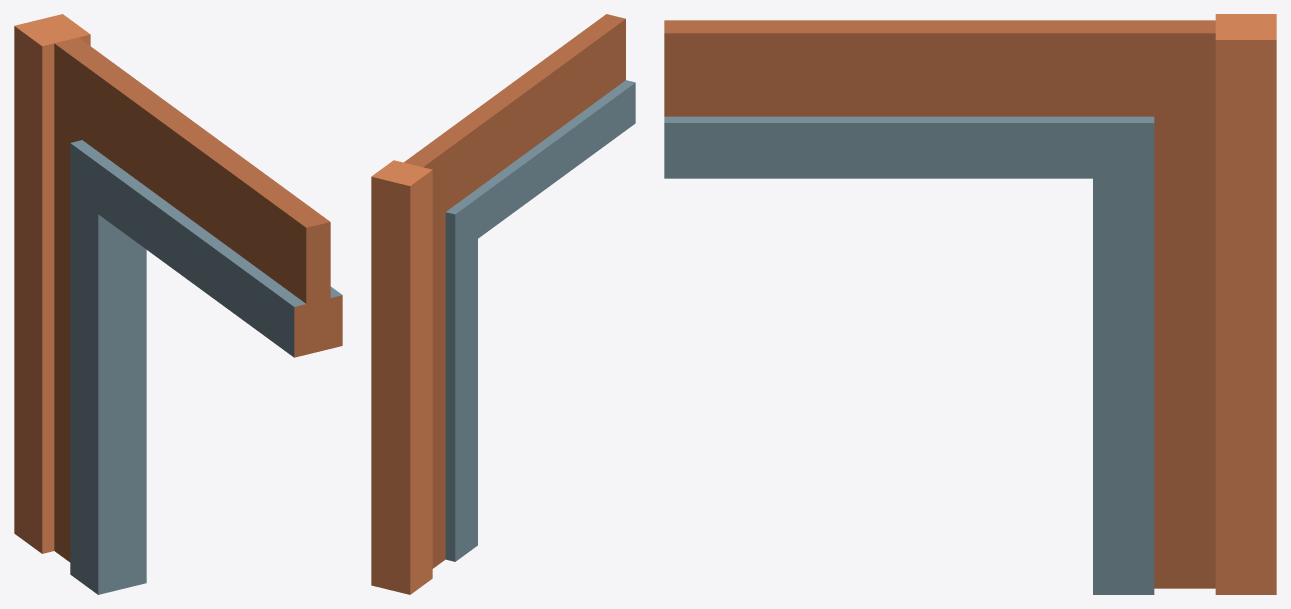
The model's file is wallWoodDoorwaySquareWide.fbx.
The picture shows the model from 3 angles, left to right: view 1: azimuth 30°, elevation 25°; view 2: azimuth 150°, elevation 25°; view 3: azimuth 270°, elevation 25°; orthographic projection. The views are drawn at different scales.
Parts seen in each view (by area): view 1: wallWoodDoorwaySquareWide; view 2: wallWoodDoorwaySquareWide; view 3: wallWoodDoorwaySquareWide.
Boxes of the visible parts, bbox=[...] form: wallWoodDoorwaySquareWide: bbox=[14, 14, 342, 594]; wallWoodDoorwaySquareWide: bbox=[371, 14, 635, 594]; wallWoodDoorwaySquareWide: bbox=[664, 14, 1276, 594].
Size of the model in its own units: 1 by 10 by 10.
